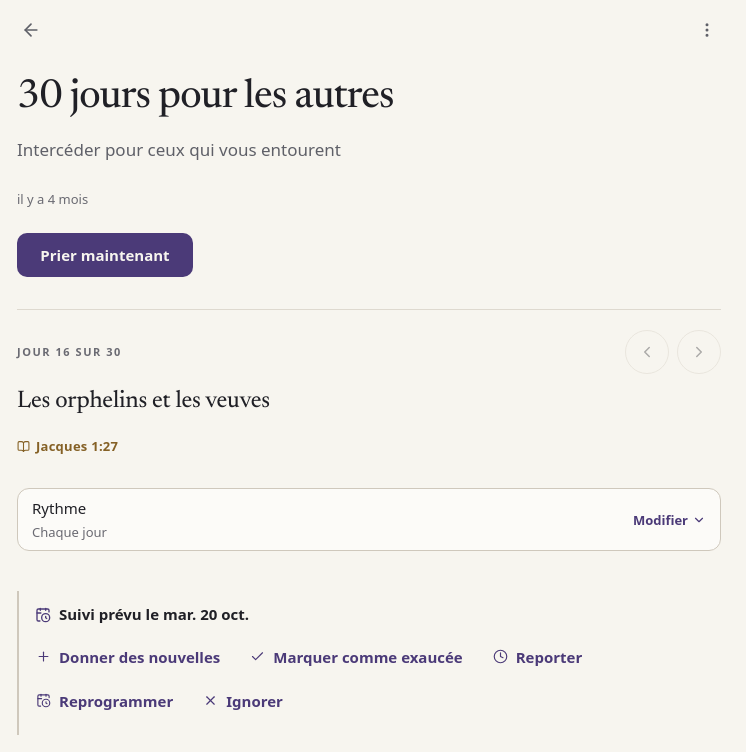
Test case: the overflow menu on a plan run › never takes away a follow-up a plan run already has
The image size is (746, 752).
Click the button named "Options": point(707, 30) x1=685 y1=8 x2=729 y2=52
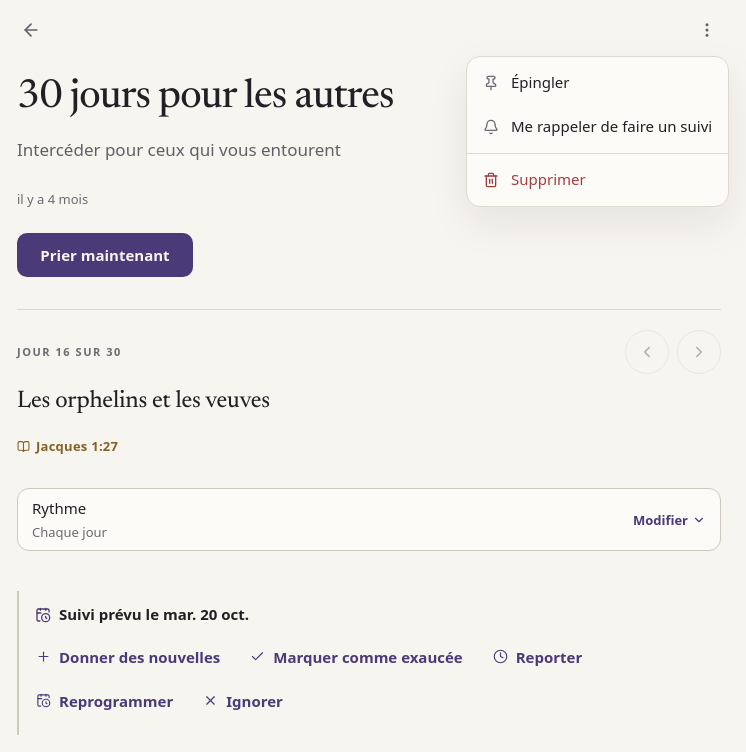
Expected: the menu item "Me rappeler de faire un suivi" is shown, x1=467 y1=105 x2=728 y2=149
